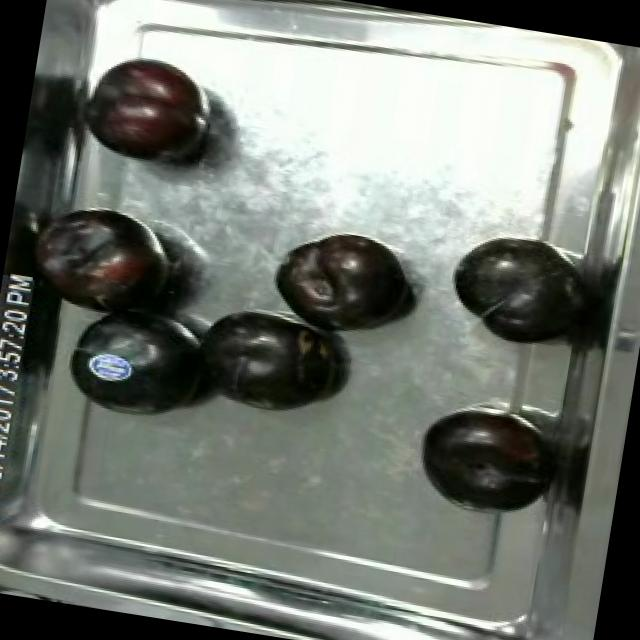Fruit: (12, 189, 182, 324), (174, 296, 350, 426), (59, 300, 220, 433), (72, 44, 224, 180), (262, 218, 426, 344), (438, 222, 588, 352), (405, 393, 556, 521)
